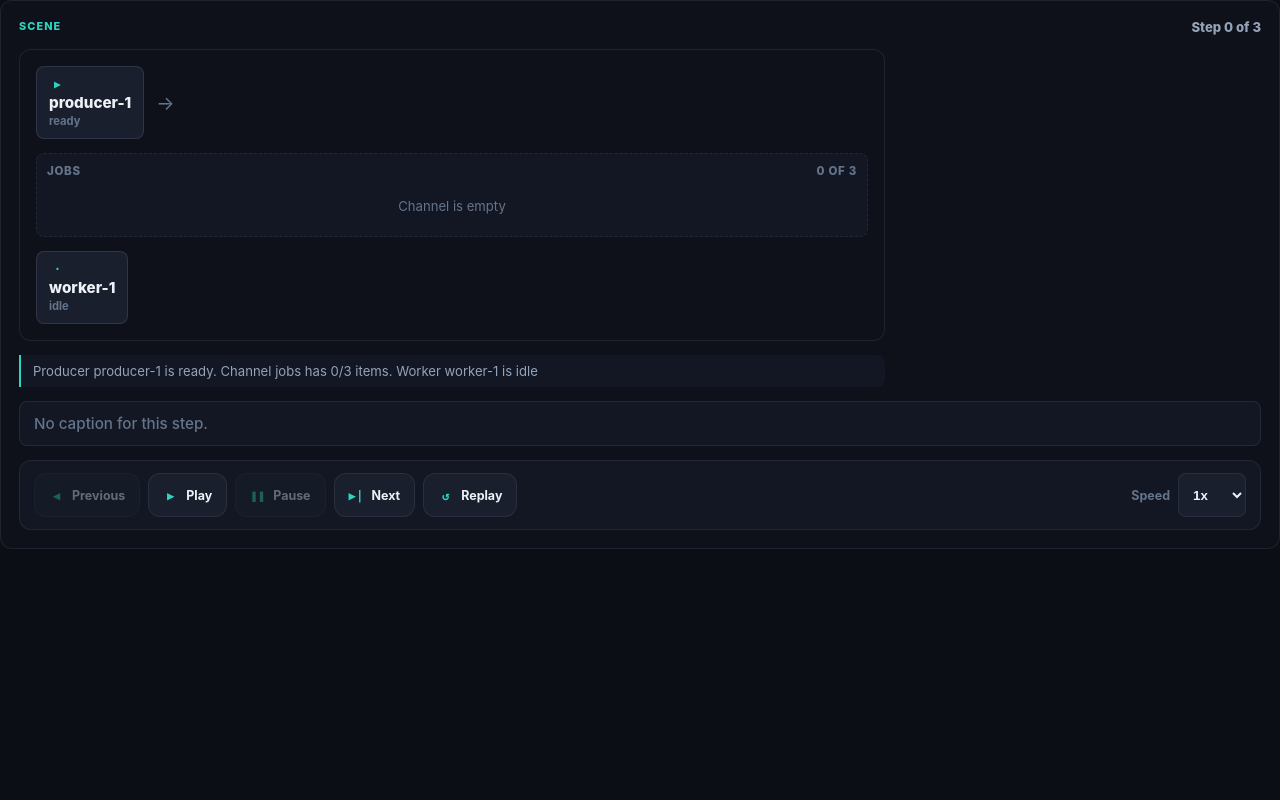
Test: VisualStage — autoplay advancement (fake timers) › auto-pauses when reaching the last step
Click the button "▶ Play".
click(188, 495)  # box [148, 473, 227, 517]
Wait 3900 ms
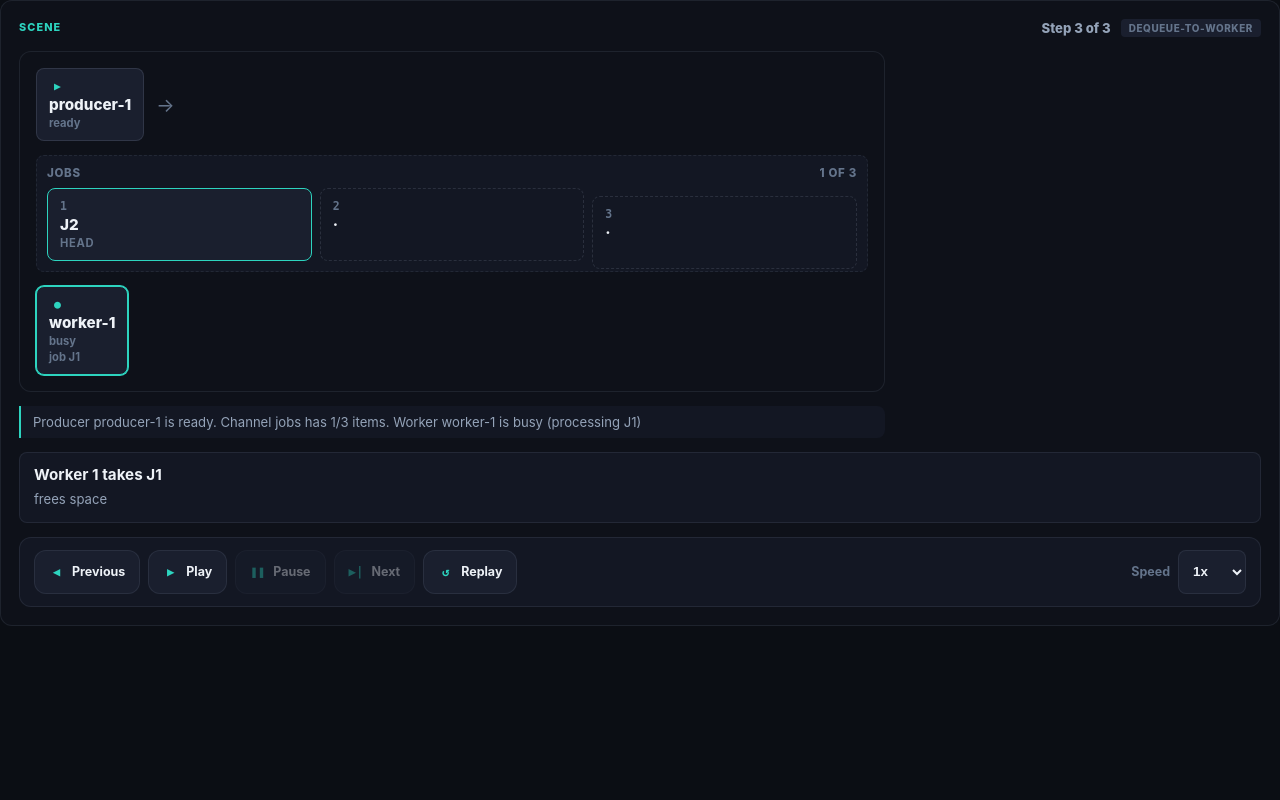
expect the button "▶ Play" is enabled: met, box [148, 550, 227, 594]
expect the text "Step 3 of 3" is shown: met, box [1042, 20, 1111, 36]
